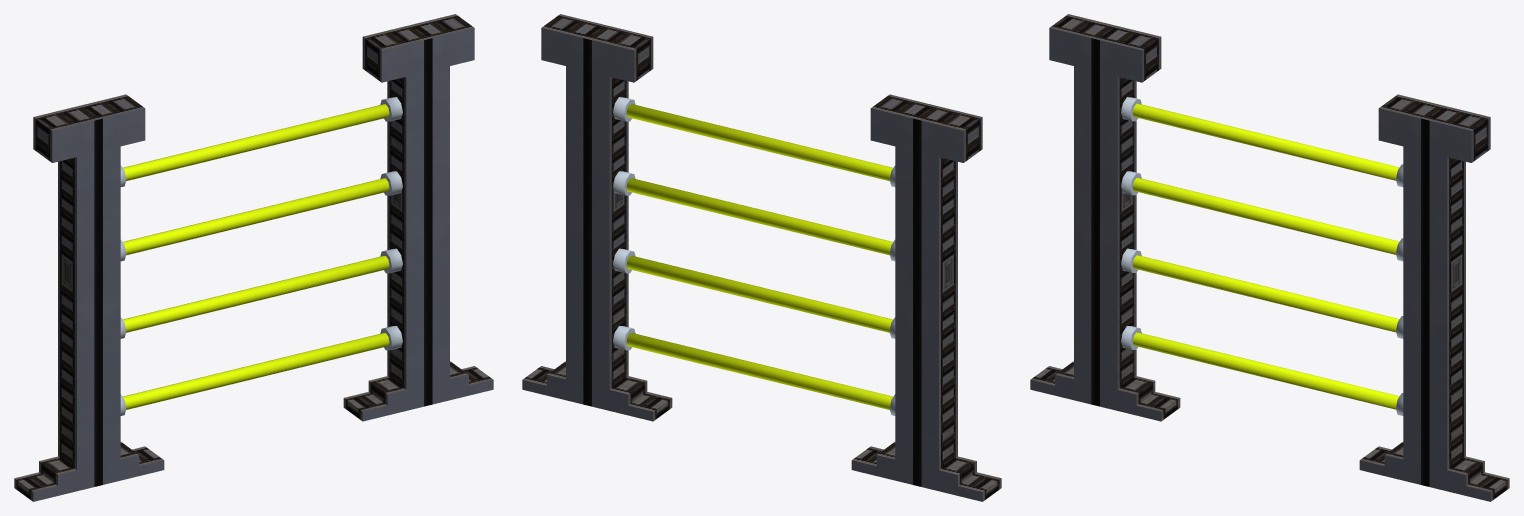
File: obstacle_laser_barrier.glb
3 views of the same model, side by side, from view 1: azimuth 30°, elevation 25°; view 2: azimuth 150°, elevation 25°; view 3: azimuth 330°, elevation 25° (orthographic).
Visible parts, largest first — view 1: Scifi_SmallLaser_Barrier; view 2: Scifi_SmallLaser_Barrier; view 3: Scifi_SmallLaser_Barrier.
Boxes of the visible parts, bbox=[...] form: Scifi_SmallLaser_Barrier: bbox=[14, 14, 493, 501]; Scifi_SmallLaser_Barrier: bbox=[522, 14, 1001, 501]; Scifi_SmallLaser_Barrier: bbox=[1030, 14, 1509, 501].
Bounding box in the file's own units: 1.93 × 1.47 × 0.1377.
1 material, 1 textured.
